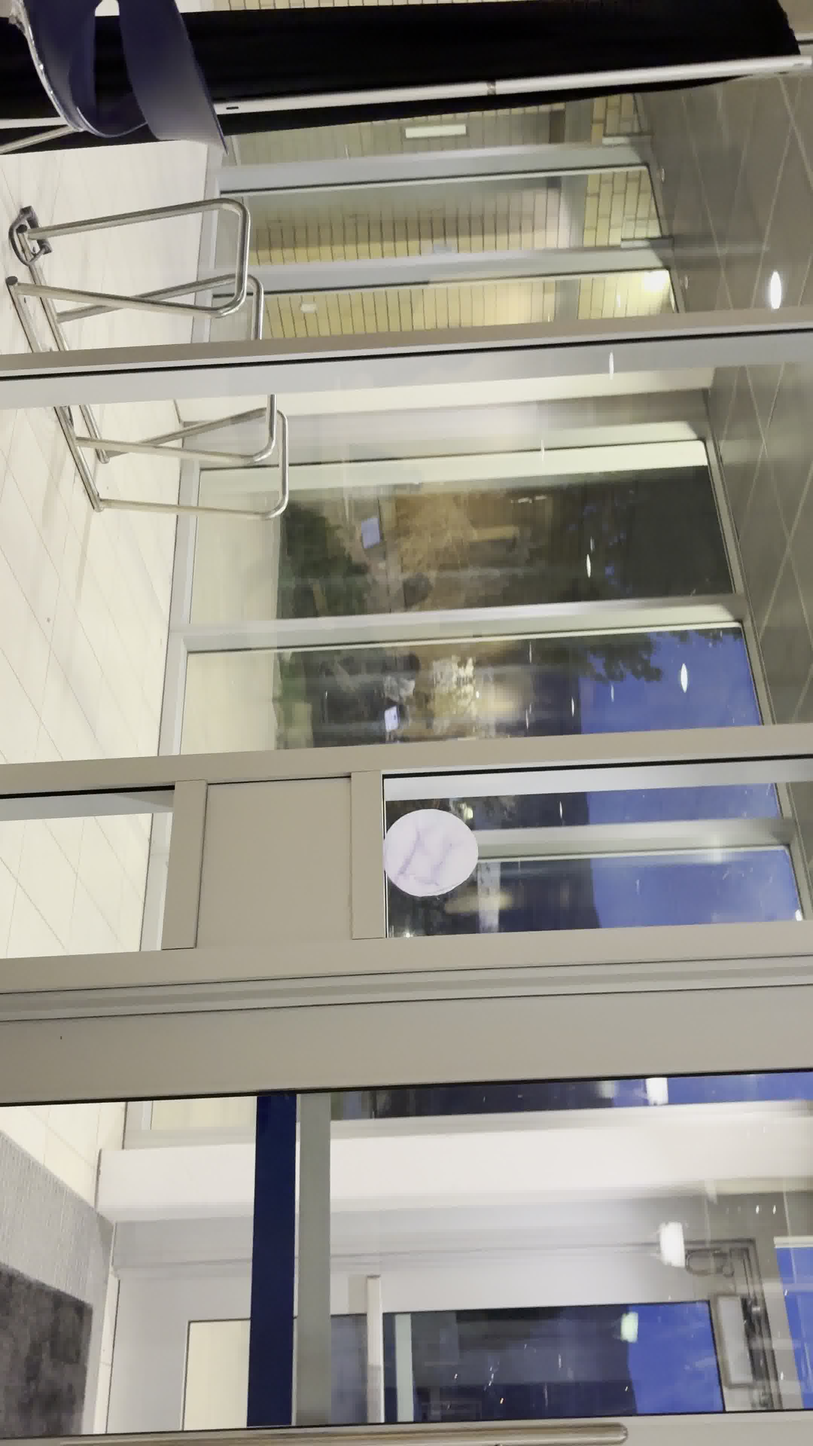Target: (381, 807, 479, 898)
